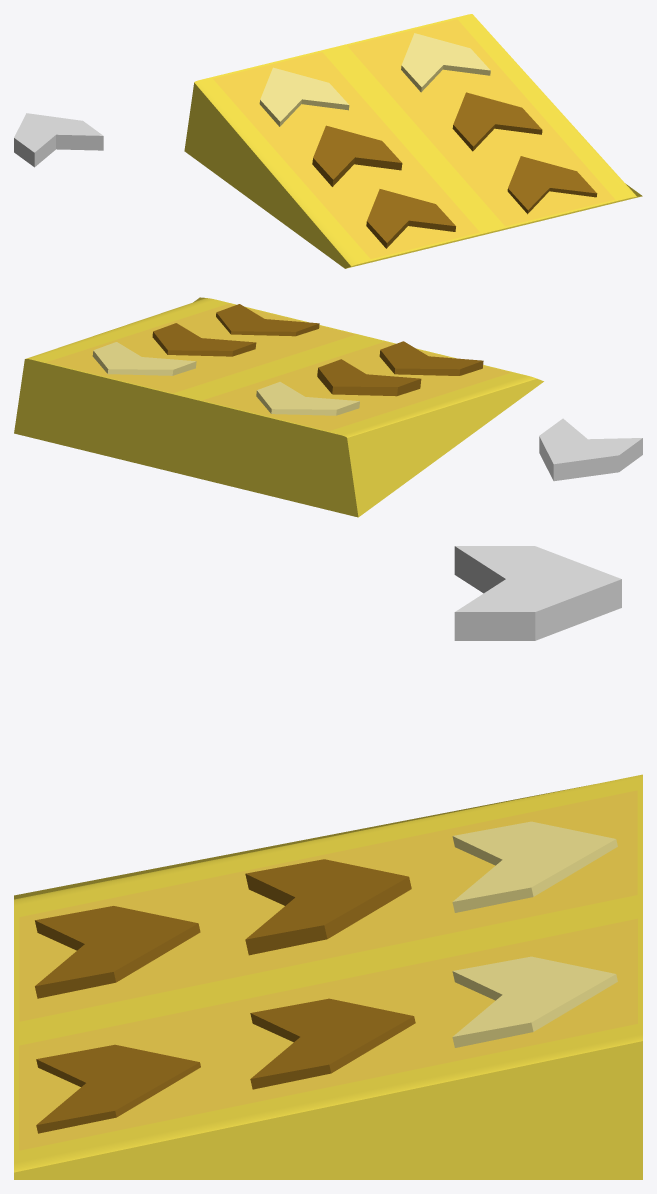
The model's file is ziplama platformu.fbx.
3 views of the same model, one above another, from view 1: azimuth 30°, elevation 25°; view 2: azimuth 150°, elevation 25°; view 3: azimuth 270°, elevation 25° (orthographic). The views are drawn at different scales.
Parts seen in each view (by area): view 1: Cube, Cube.002, Cube.003, Cube.004, Cube.001, Cube.005, Cube.006, Cube.007; view 2: Cube, Cube.002, Cube.003, Cube.004, Cube.005, Cube.001, Cube.006, Cube.007; view 3: Cube, Cube.002, Cube.003, Cube.004, Cube.005, Cube.001, Cube.006, Cube.007.
Part boxes in pixels (x1,y1,x2,y2): Cube: (184,14,642,268); Cube.002: (14,113,103,167); Cube.003: (312,125,402,186); Cube.004: (366,189,455,248); Cube.001: (259,67,349,126); Cube.005: (401,33,490,92); Cube.006: (452,92,542,151); Cube.007: (507,156,597,214); Cube: (14,297,543,517); Cube.002: (539,418,642,481); Cube.003: (317,359,421,396); Cube.004: (379,341,483,375); Cube.005: (92,342,196,375); Cube.001: (256,382,359,415); Cube.006: (152,323,256,356); Cube.007: (216,304,319,336); Cube: (14,774,642,1179); Cube.002: (454,546,621,640); Cube.003: (245,859,411,955); Cube.004: (35,906,200,998); Cube.005: (452,956,617,1047); Cube.001: (452,821,617,912); Cube.006: (250,998,415,1089); Cube.007: (36,1044,200,1133).
Bounding box in the file's own units: 356 × 60.4 × 200.
